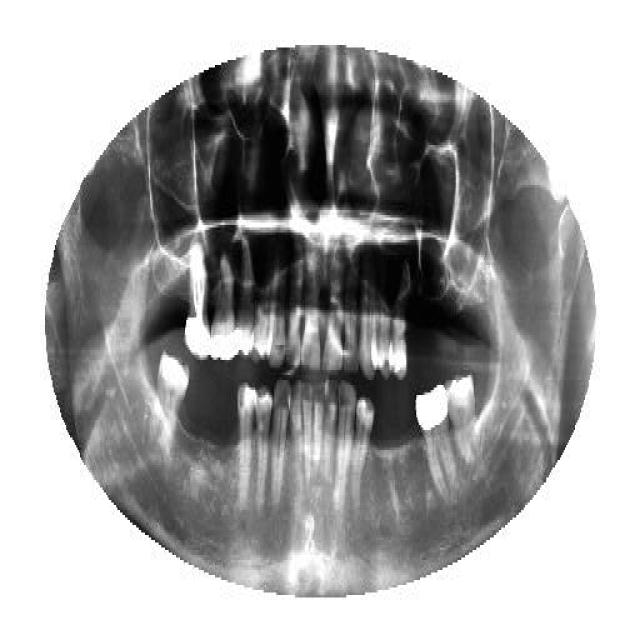Fillings: (415, 378, 456, 498), (184, 242, 210, 362), (209, 255, 236, 360)
